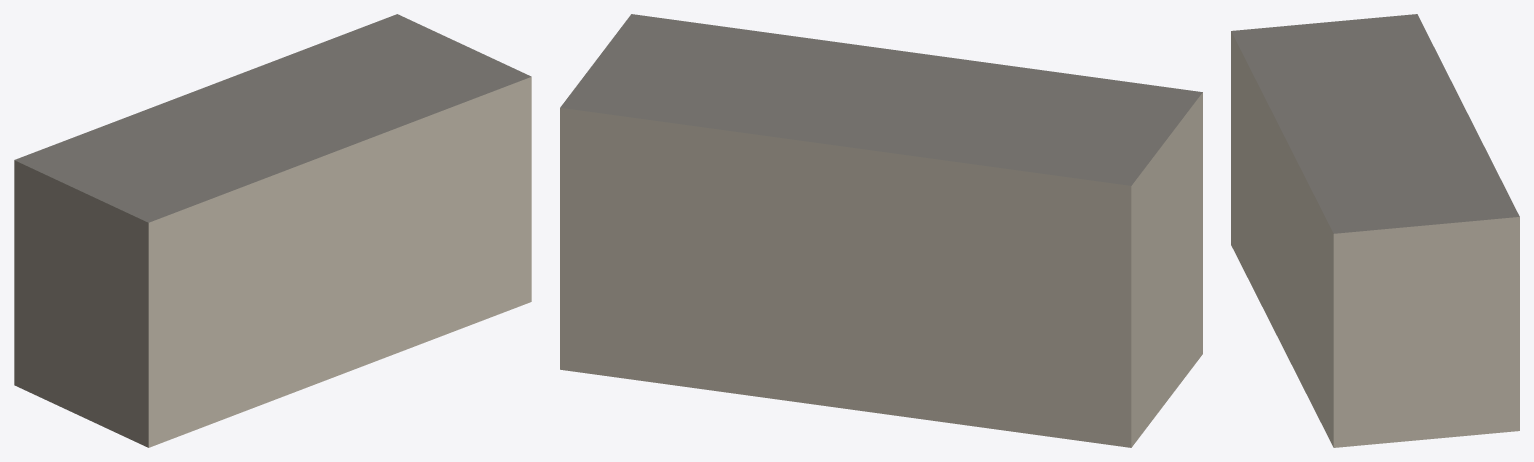
3 renders of one model, left to right at view 1: azimuth 30°, elevation 25°; view 2: azimuth 150°, elevation 25°; view 3: azimuth 270°, elevation 25°, orthographic. The views are drawn at different scales.
Visible parts, largest first — view 1: HP-w299010086; view 2: HP-w299010086; view 3: HP-w299010086.
Boxes of the visible parts, x1,y1,x2,y2 form: HP-w299010086: (14, 14, 531, 447); HP-w299010086: (560, 14, 1202, 447); HP-w299010086: (1231, 14, 1519, 447).
Size of the model in its own units: 39.63 by 18 by 22.
